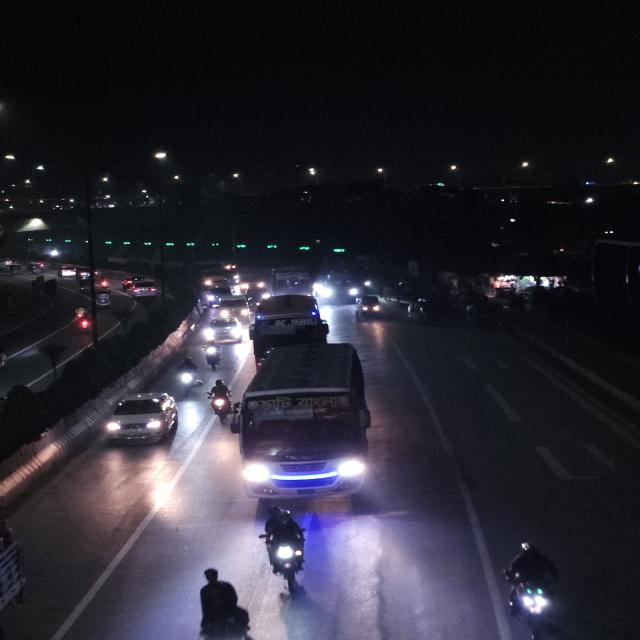bus: (239, 339, 376, 507), (322, 250, 374, 304), (269, 252, 325, 300)
car: (100, 390, 182, 450), (206, 315, 243, 345), (121, 274, 162, 301), (58, 265, 79, 279)
cng: (354, 291, 385, 319), (90, 286, 114, 308)
motorcycle: (490, 538, 567, 638), (256, 504, 313, 593), (172, 352, 201, 396), (206, 377, 232, 426), (72, 303, 95, 335), (201, 341, 224, 372)
pedestrian: (182, 564, 265, 640)
